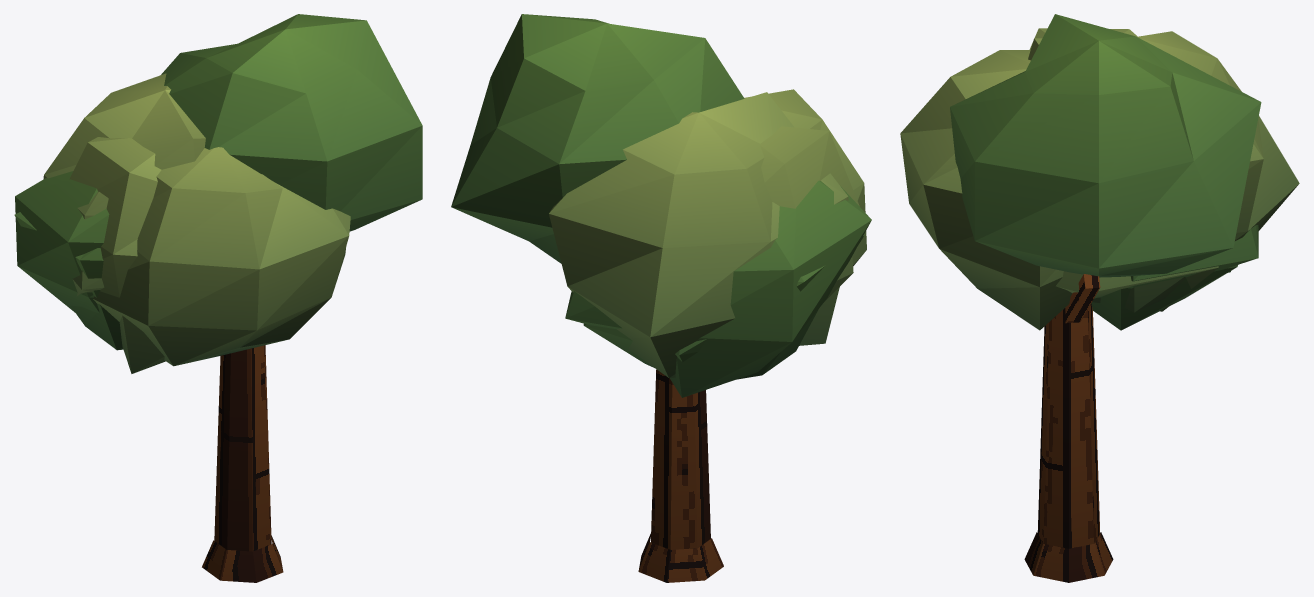
File: apple_2_lowpoly.glb
3 views of the same model, side by side, from view 1: azimuth 30°, elevation 25°; view 2: azimuth 150°, elevation 25°; view 3: azimuth 270°, elevation 25° (orthographic). The views are drawn at different scales.
Visible parts, largest first — view 1: apple_2_lowpoly; view 2: apple_2_lowpoly; view 3: apple_2_lowpoly.
Boxes of the visible parts, x1=… form: apple_2_lowpoly: x1=14, y1=14, x2=422, y2=582; apple_2_lowpoly: x1=451, y1=14, x2=871, y2=582; apple_2_lowpoly: x1=900, y1=14, x2=1299, y2=582.
Bounding box in the file's own units: 3.58 × 4.81 × 3.15.
2 materials, 1 textured.
